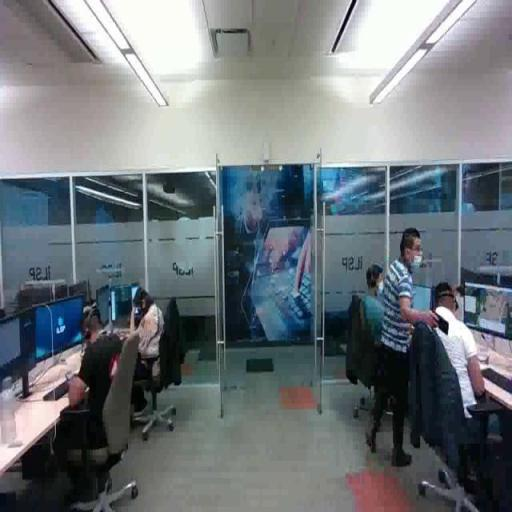person: (365, 224, 440, 472)
